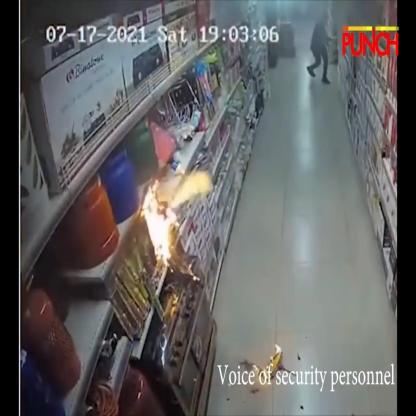fire: (142, 186, 179, 265), (275, 341, 281, 353)
